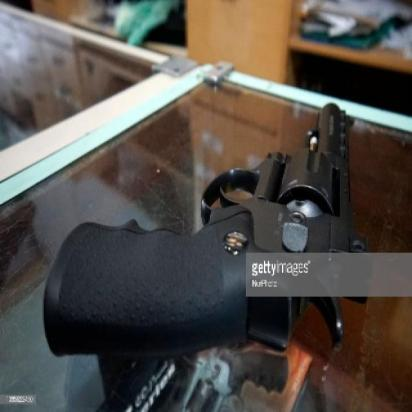Gun: (37, 99, 354, 356)
